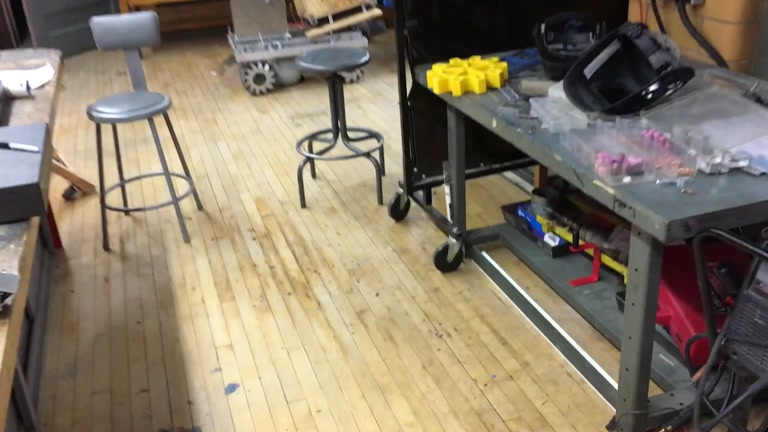gear: (426, 53, 508, 97)
